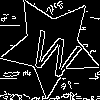W: (26, 21, 87, 82)
